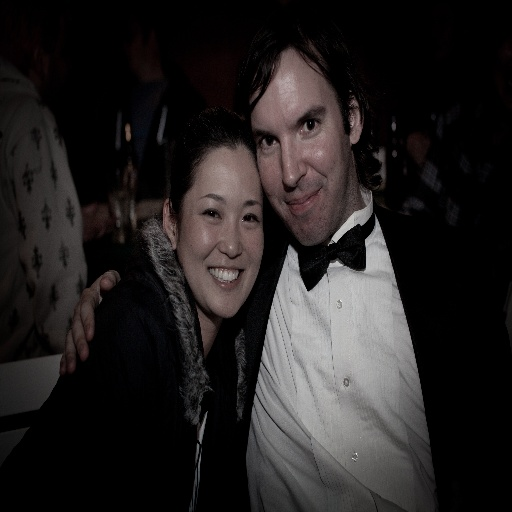hand: (50, 267, 115, 391)
